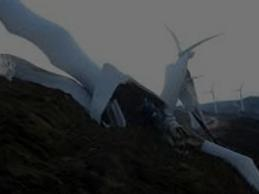faulty: (85, 55, 219, 151)
